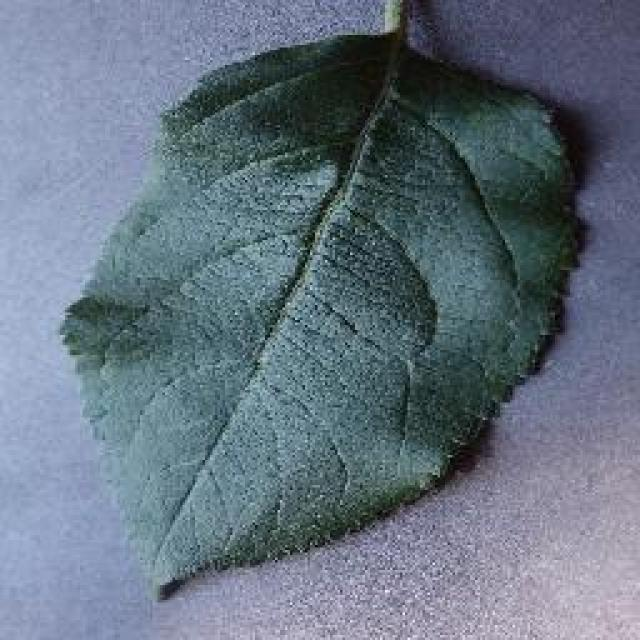apple healthy: (57, 0, 585, 600)
